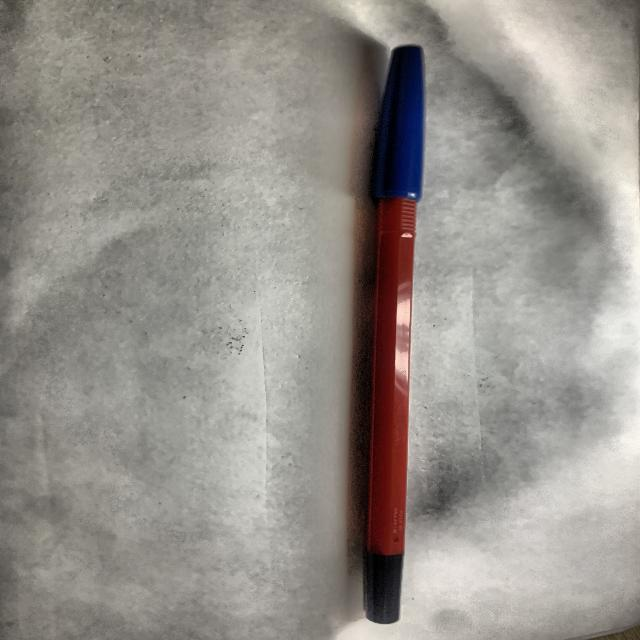Pulpen: (339, 43, 431, 637)
